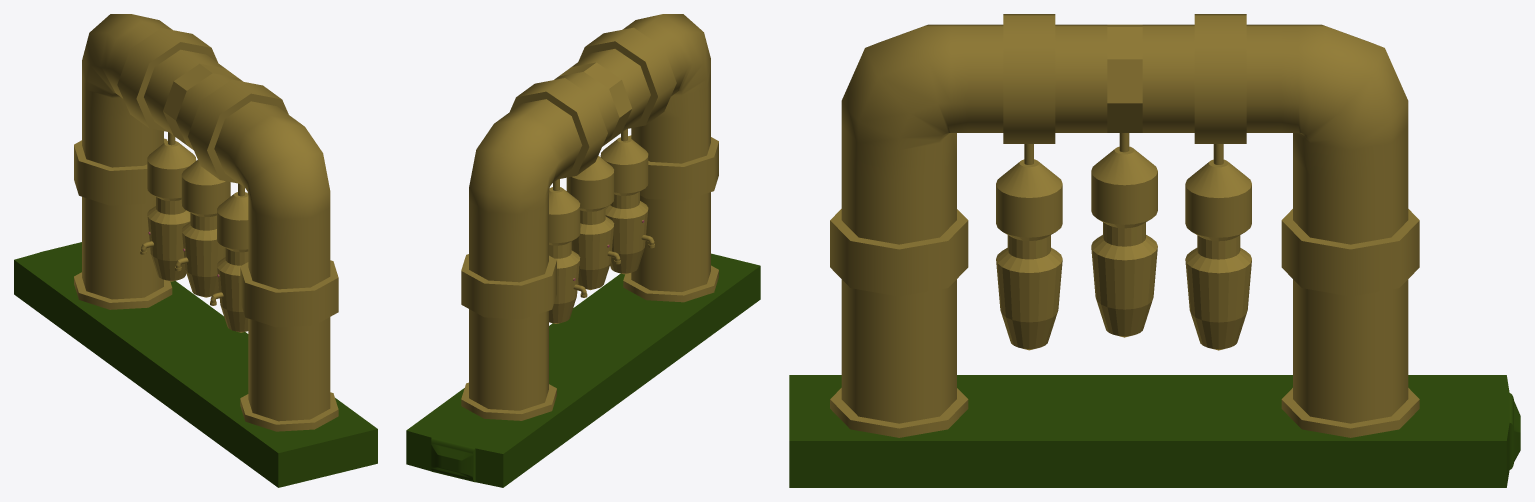
File: pipeline.fbx
3 renders of one model, left to right at view 1: azimuth 30°, elevation 25°; view 2: azimuth 150°, elevation 25°; view 3: azimuth 270°, elevation 25°, orthographic. The views are drawn at different scales.
Visible parts, largest first — view 1: pCylinder16; view 2: pCylinder16; view 3: pCylinder16.
Boxes of the visible parts, <box> form: pCylinder16: <box>14,14,377,487</box>; pCylinder16: <box>406,14,760,487</box>; pCylinder16: <box>789,14,1520,487</box>.
Size of the model in its own units: 3 by 9.34 by 14.07.
